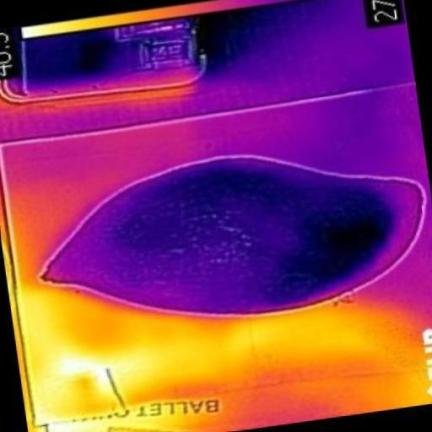mango: (39, 157, 417, 314)
